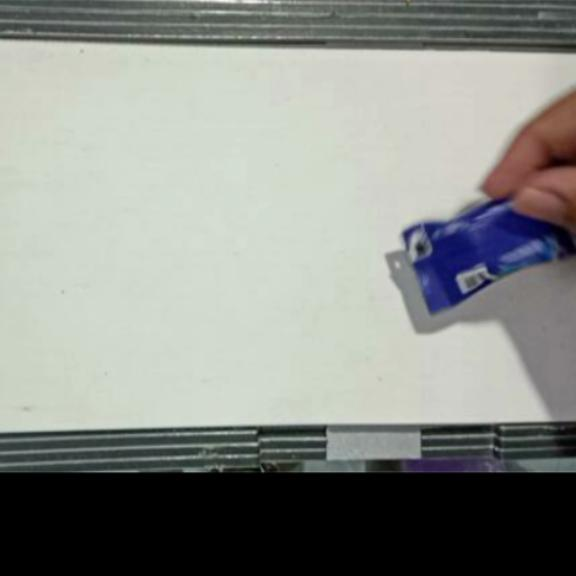Plastik: (401, 193, 576, 316)
